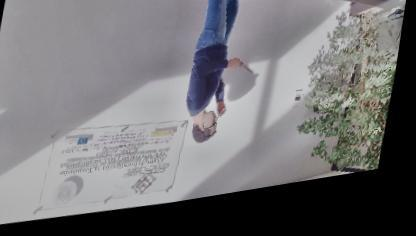knife: (236, 64, 260, 86)
